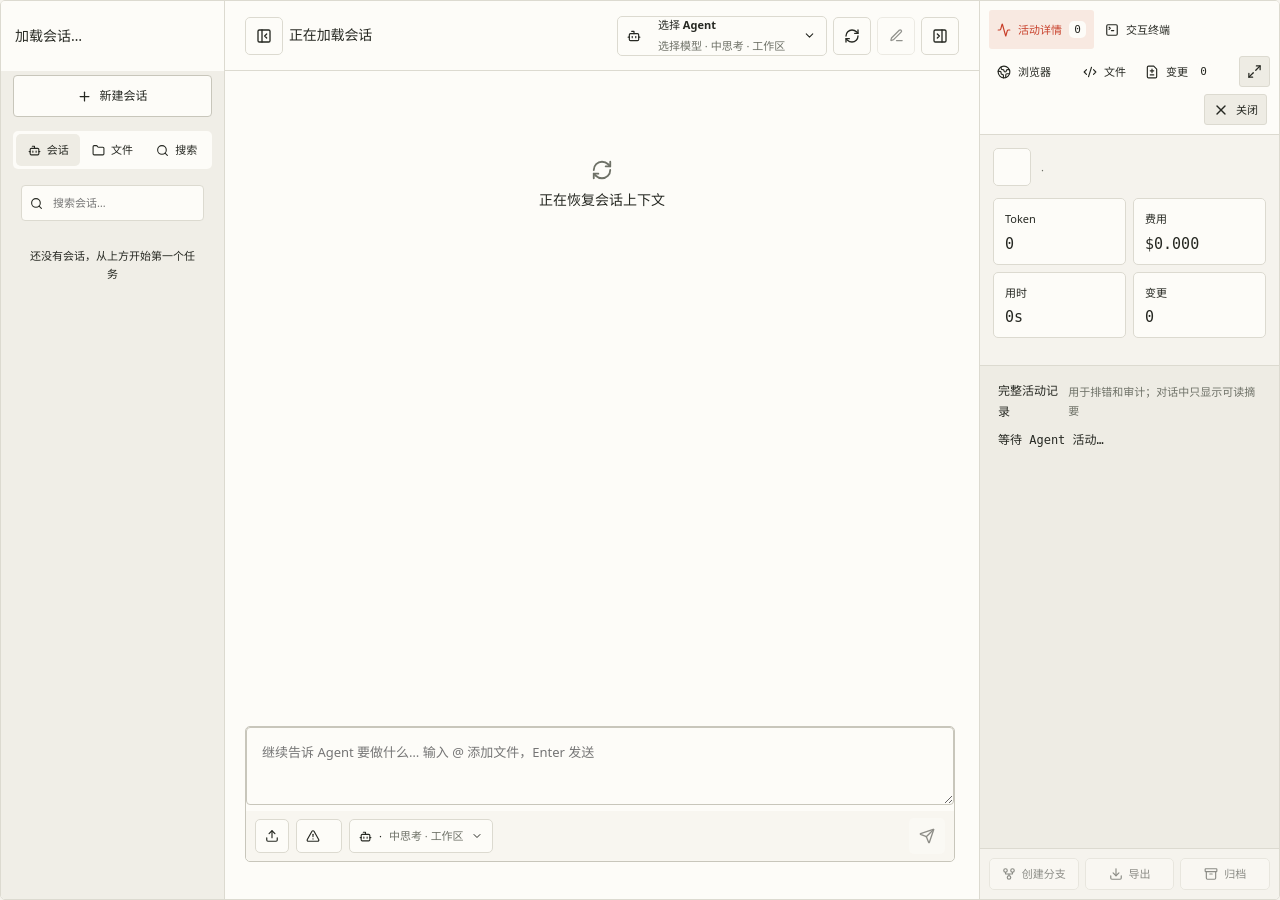
Test: Agent Studio visual workspace controls › creates, switches and closes real visible-browser tabs
Step 1. Click the button "浏览器" → click(1030, 72), box [989,52,1072,91]
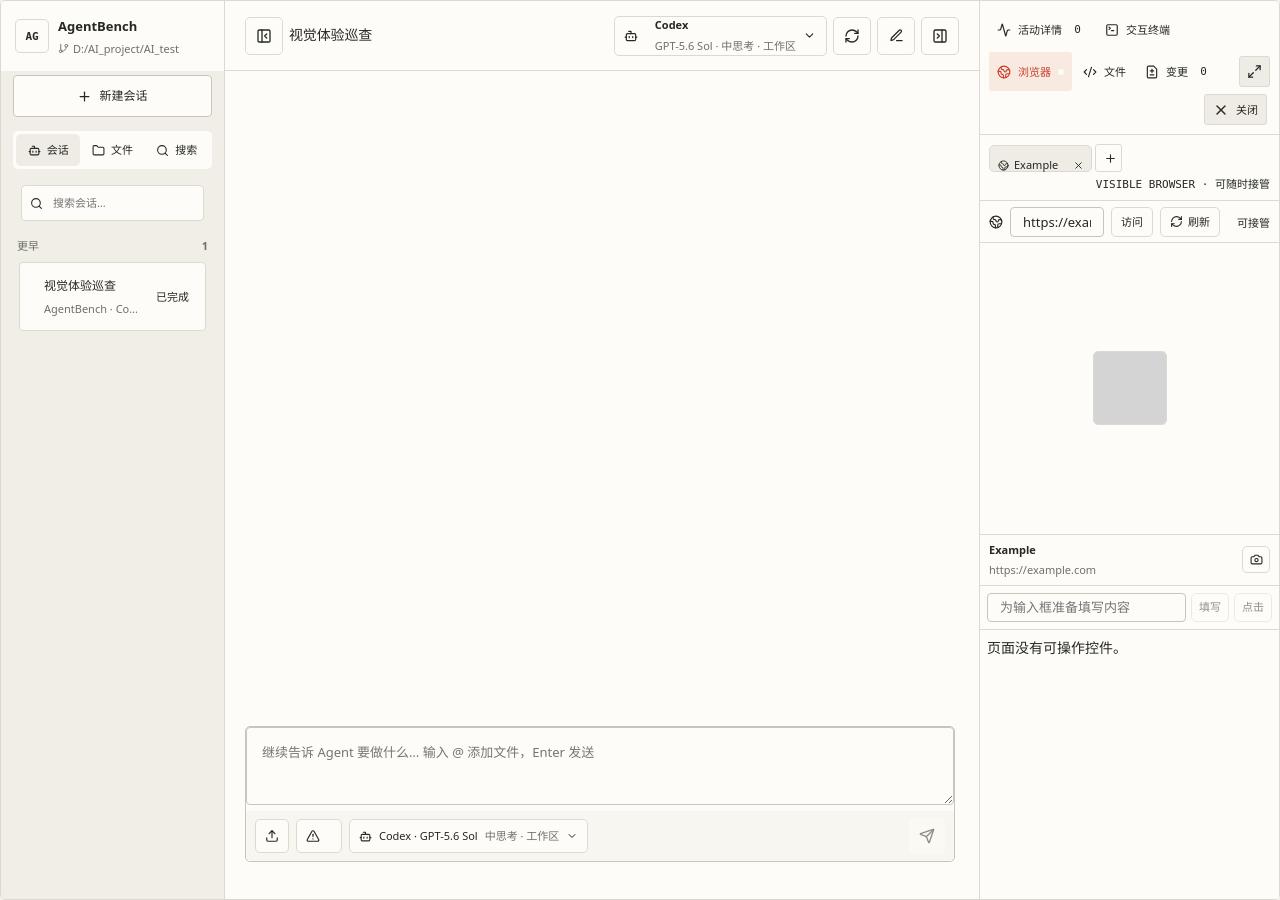
Result: the 1st text "Example" is shown at [1014,156,1058,174]
Step 2. Click the button titled "新建浏览器标签" → click(1109, 158), box [1095,144,1122,172]
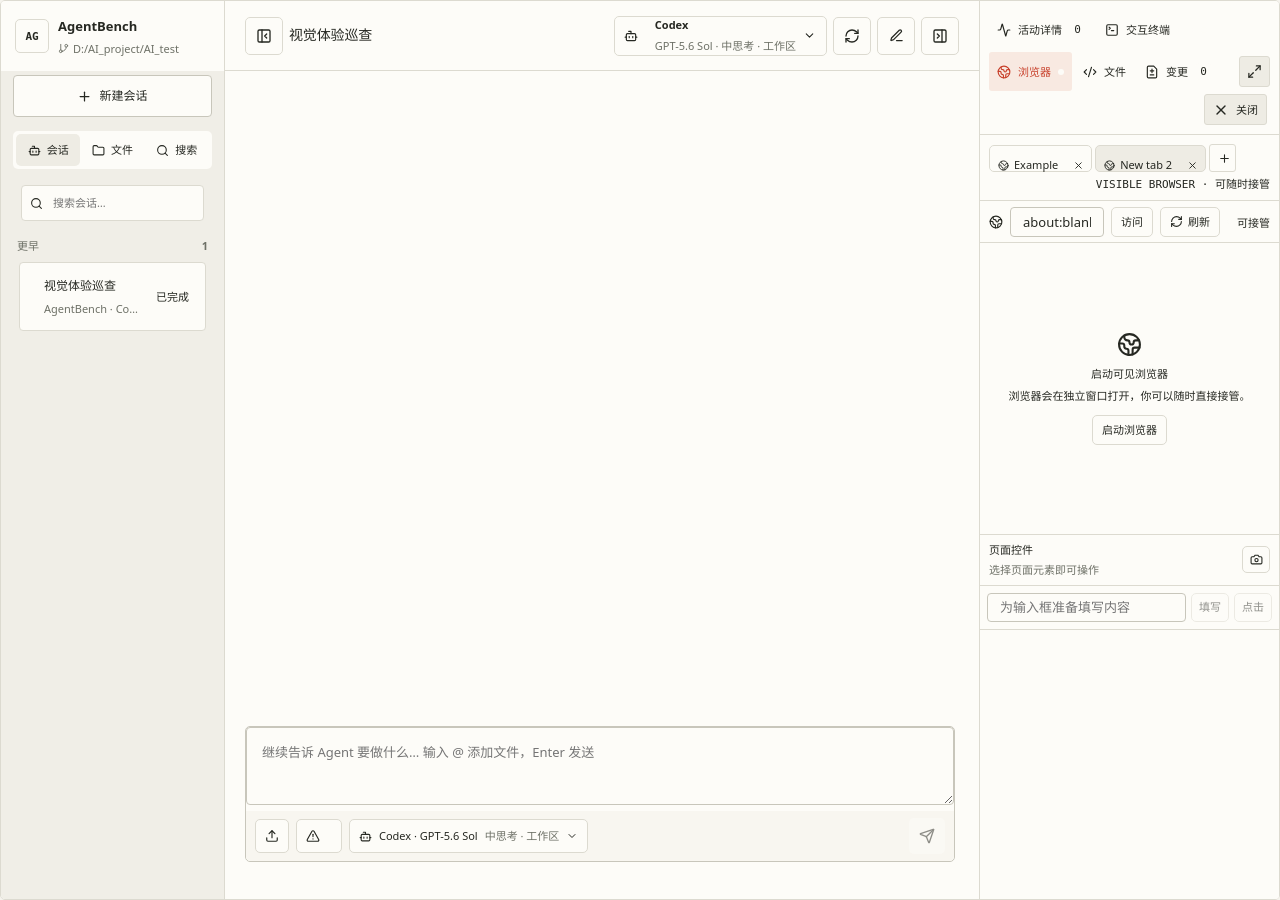
Result: the text "New tab 2" is shown at [1120,156,1172,174]
Step 3. Click the button "Example" → click(1028, 165), box [990,146,1066,184]
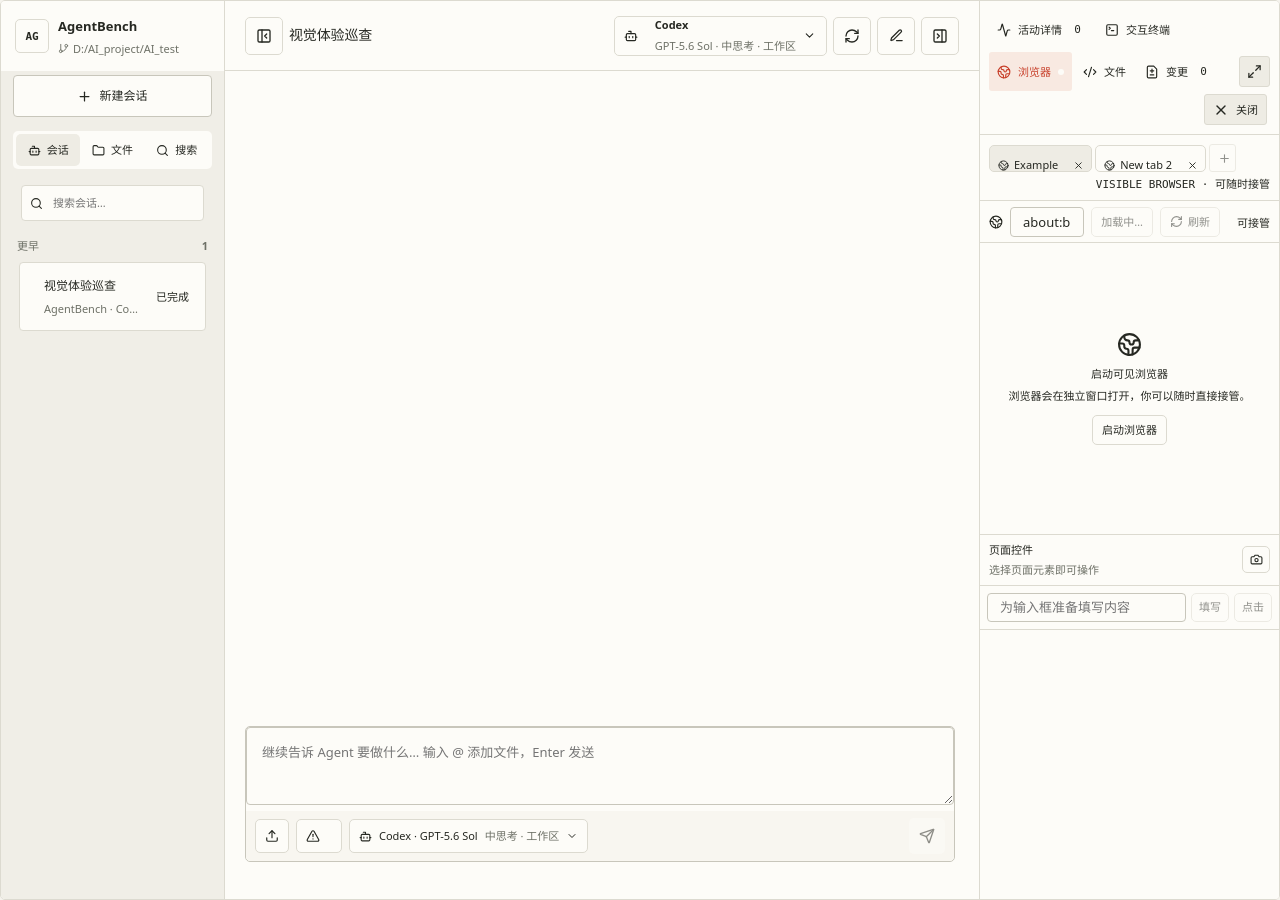
Step 4. Click the button named "关闭浏览器标签 Example" → click(1079, 165), box [1066,146,1091,184]
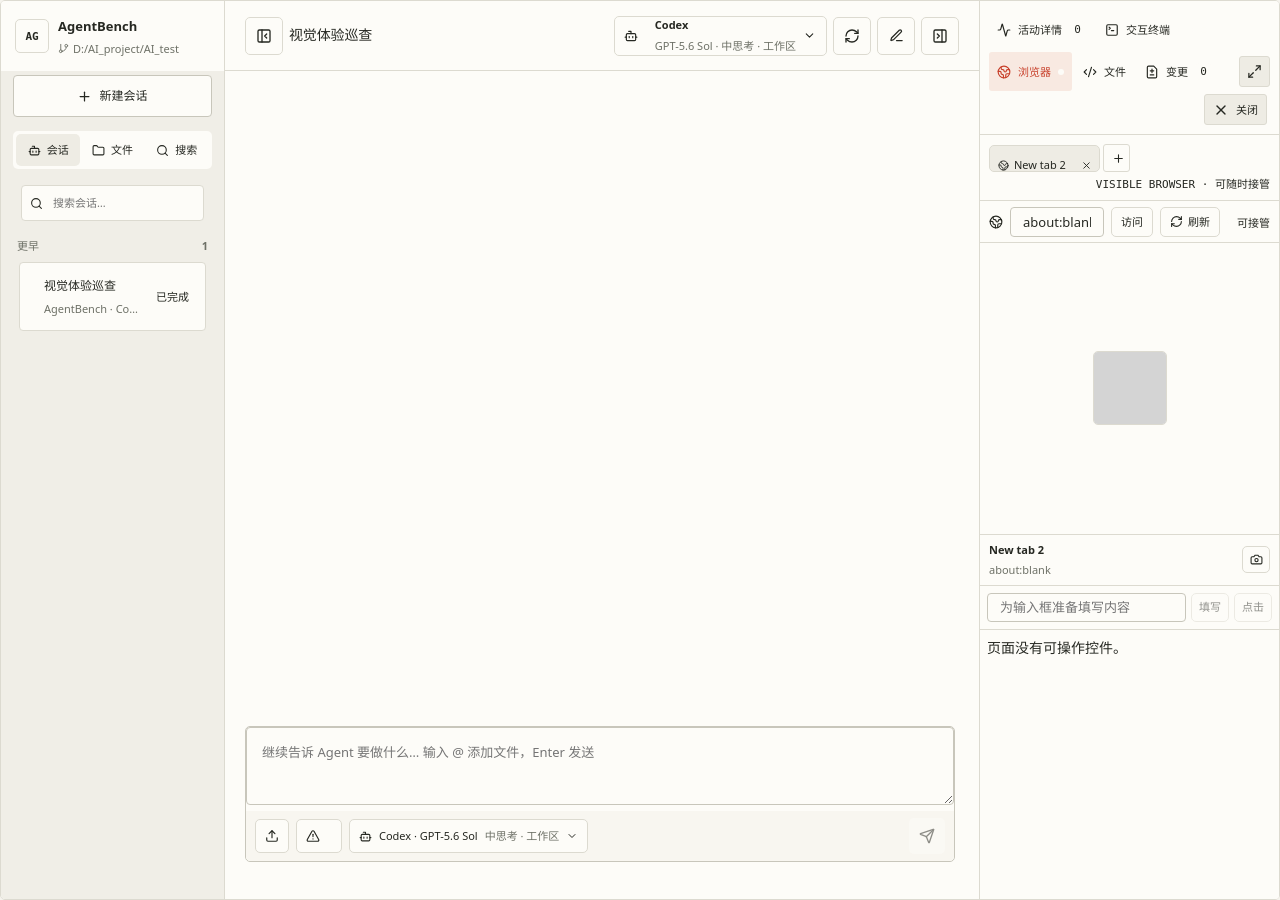
Result: the 1st text "New tab 2" is shown at [1014,156,1066,174]
Result: the button "Example" is gone
